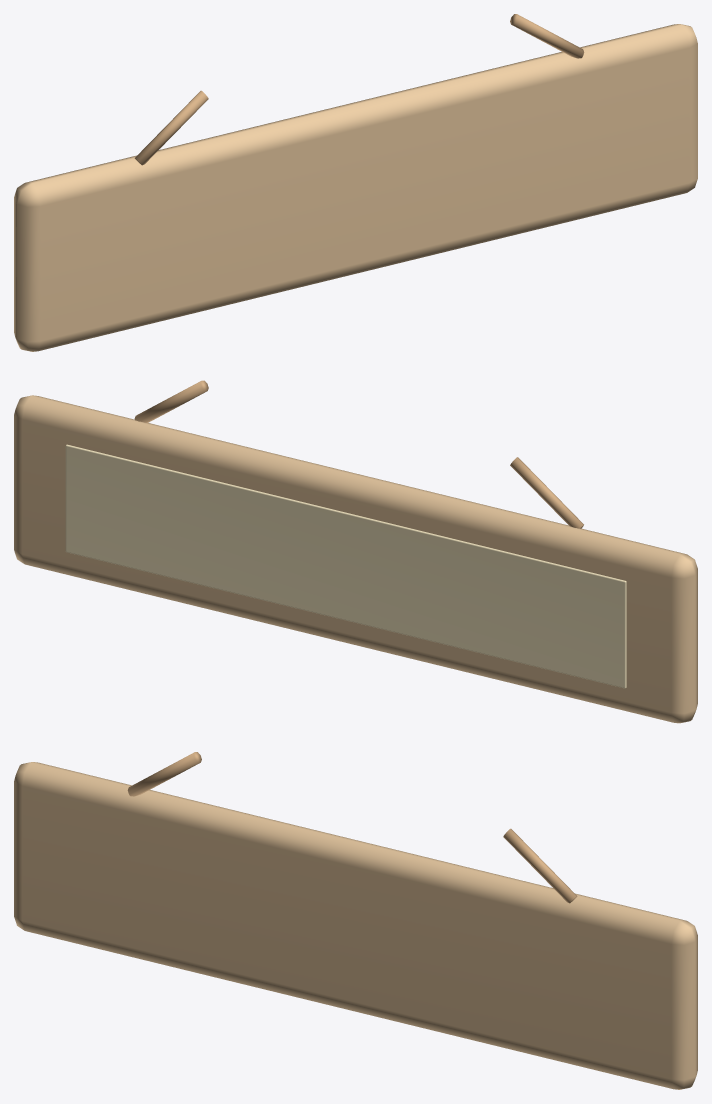
Rendered from sign_board.glb.
3 views of the same model, one above another, from view 1: azimuth 30°, elevation 25°; view 2: azimuth 150°, elevation 25°; view 3: azimuth 330°, elevation 25° (orthographic).
Visible parts, largest first — view 1: Body; view 2: Body; view 3: Body.
Boxes of the visible parts, x1,y1,x2,y2 form: Body: [14, 14, 697, 351]; Body: [14, 380, 697, 723]; Body: [14, 752, 697, 1089].
Size of the model in its own units: 1.6 by 0.5 by 0.08.
3 materials, 3 textured.
